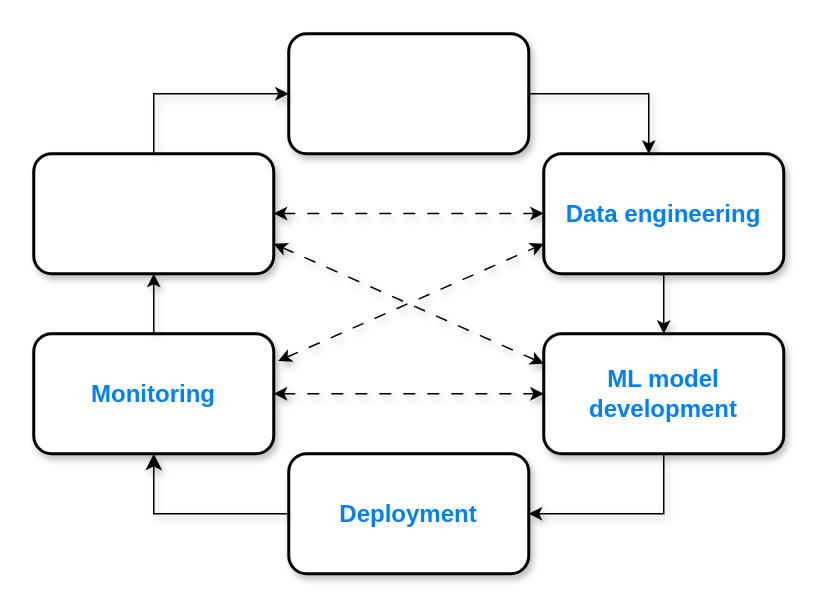
Image size: 819x611. Some labels were removed from this diagram. The centre of each missing label's shape, as x and y in pixels:
"Business analysis" belongs at point (155, 215).
"Project scoping" belongs at point (409, 95).
